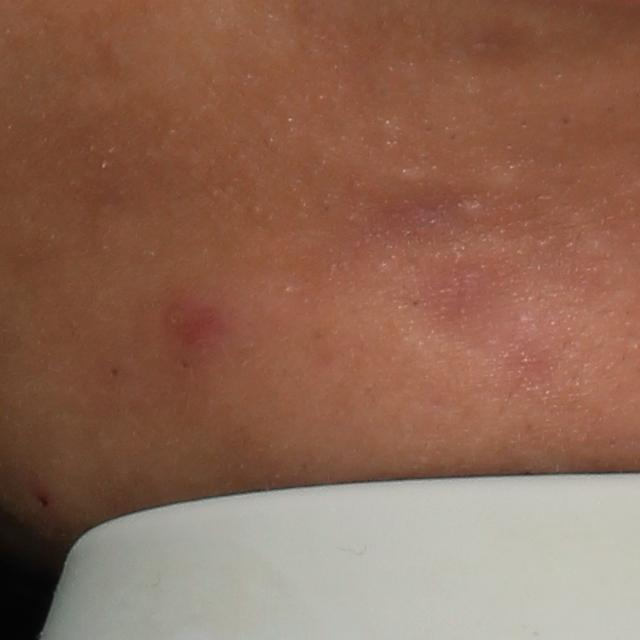hypertrophic_scar: (479, 156, 531, 192), (398, 165, 430, 184), (463, 199, 485, 216)
